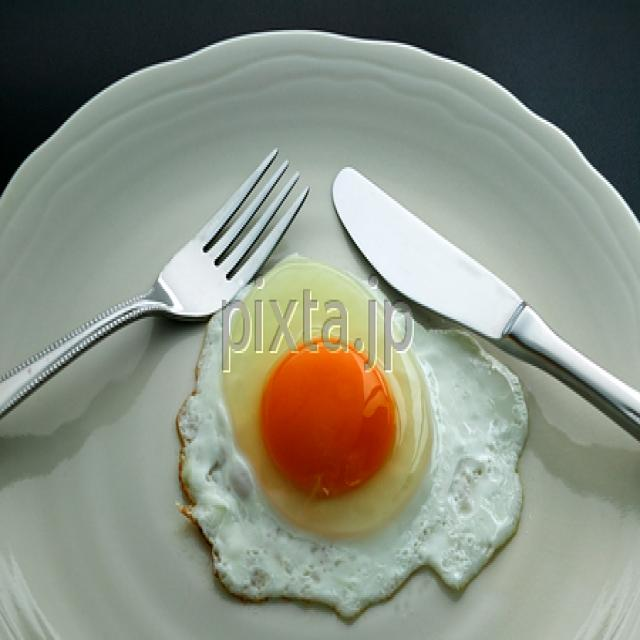鸡蛋料理: (0, 21, 637, 640)
